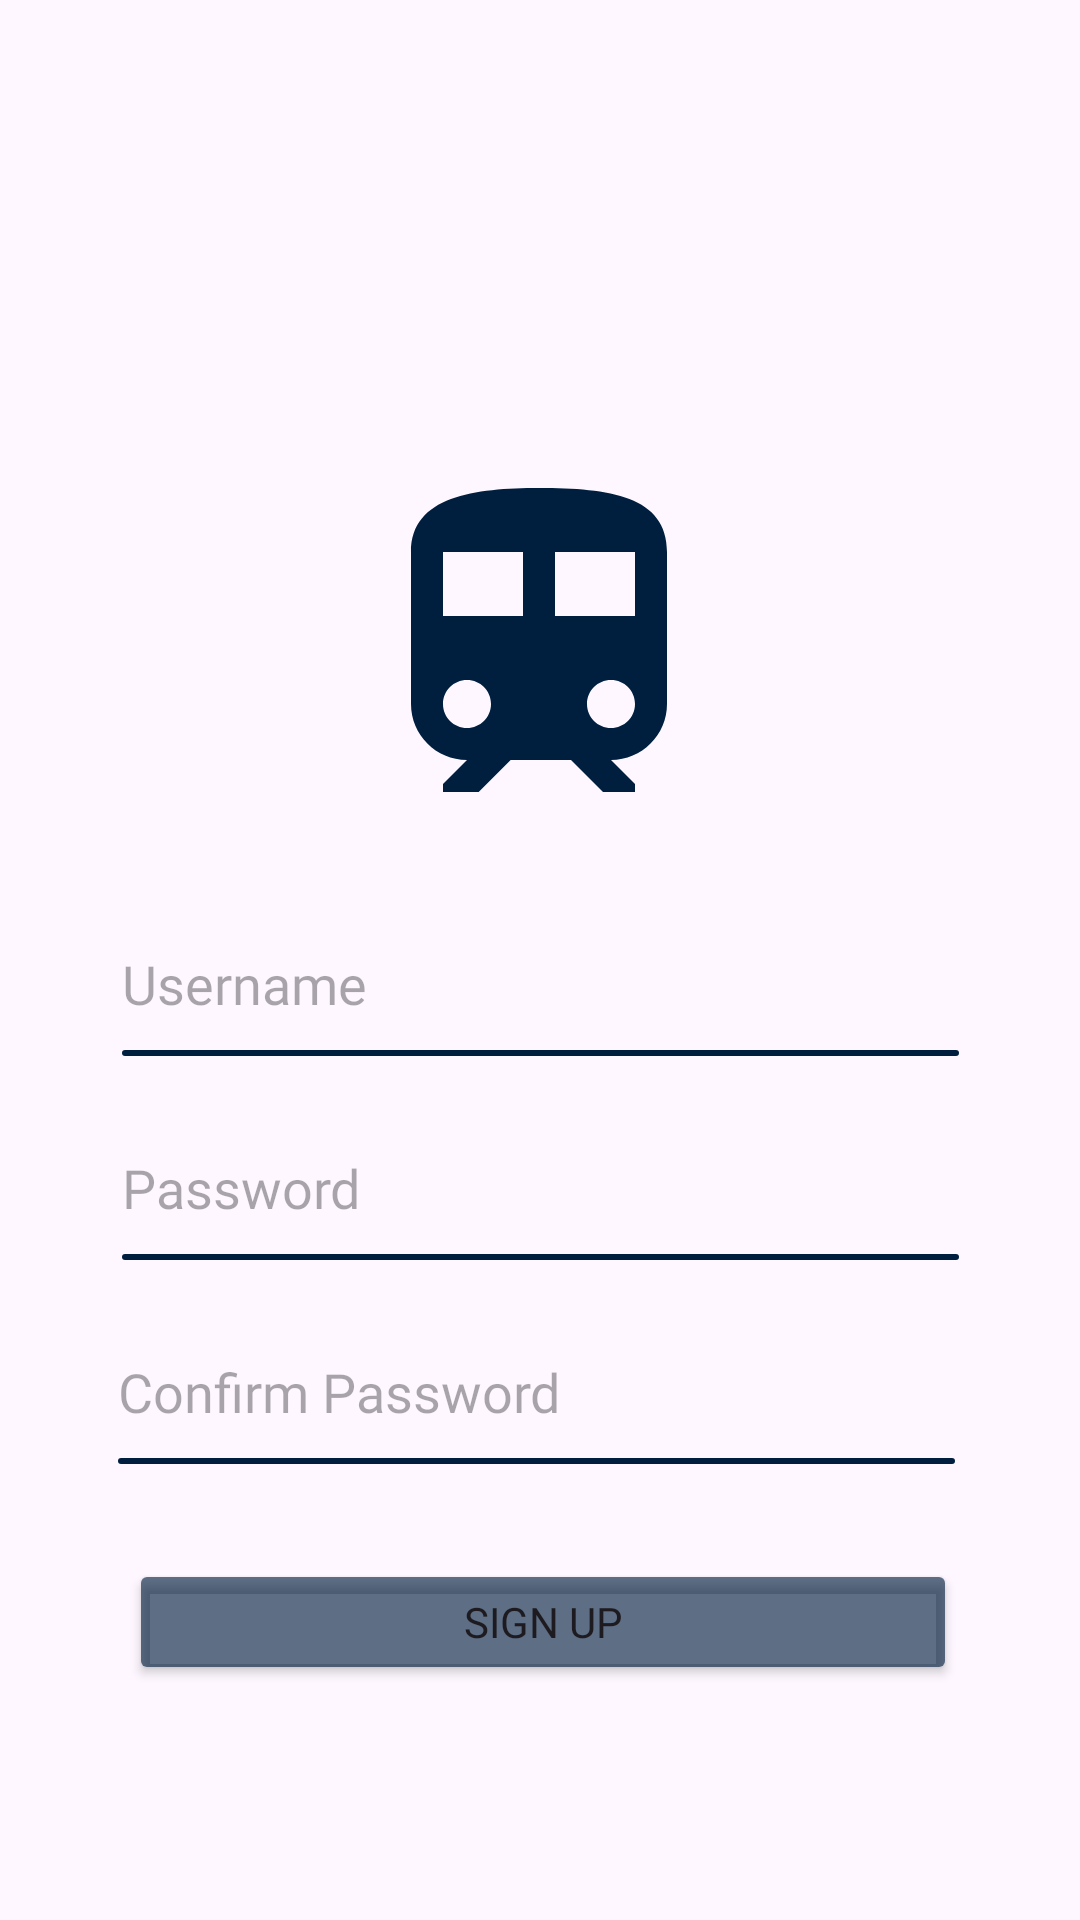

Icons on this 1080w x 1920h Android screen, each with the point to tap as (x=x, y=y):
train: (x=539, y=640)
